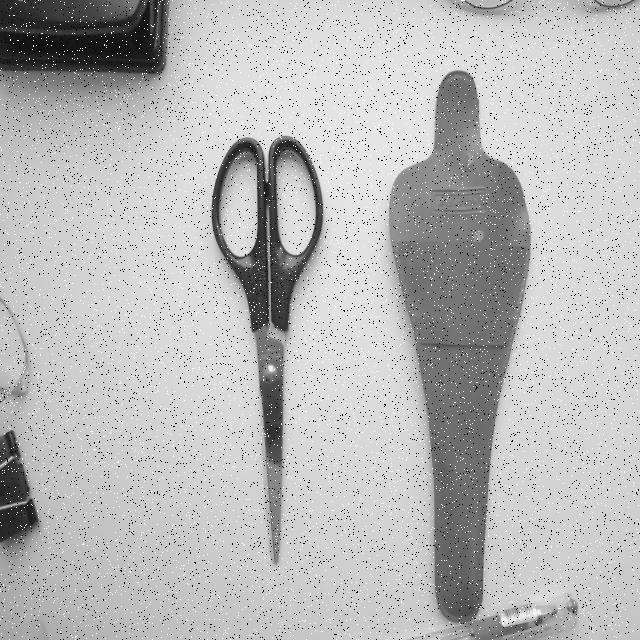scissors: (204, 121, 338, 582)
